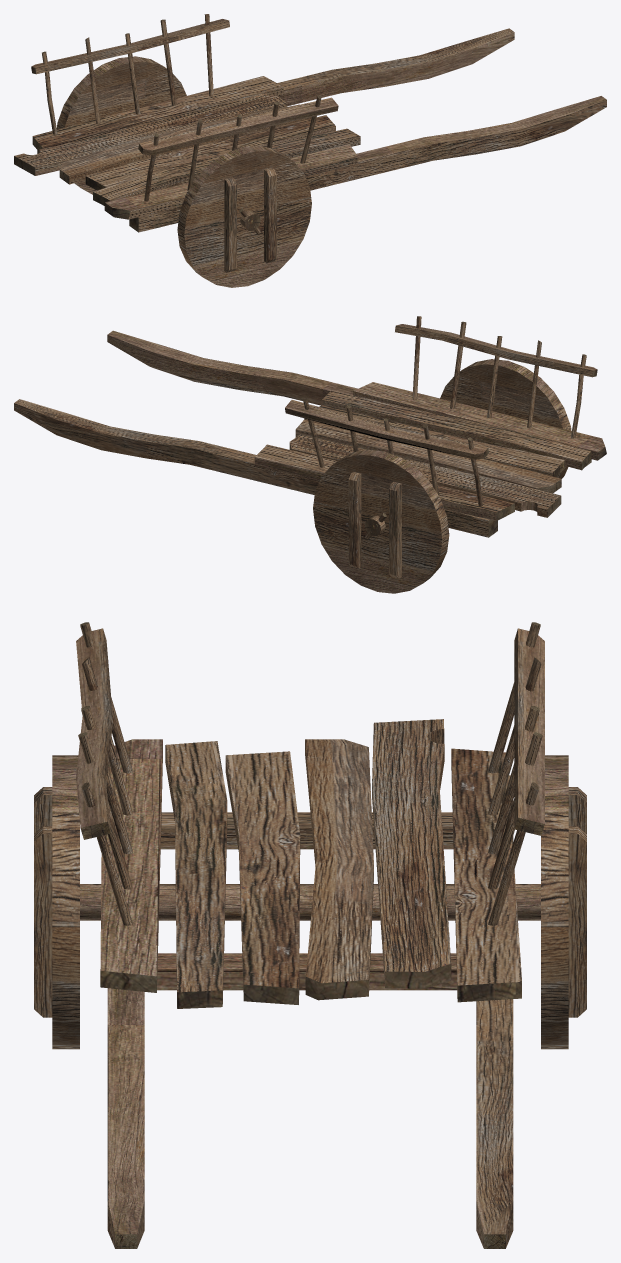
The model's file is SM_Cart_01.FBX.
3 views of the same model, one above another, from view 1: azimuth 30°, elevation 25°; view 2: azimuth 150°, elevation 25°; view 3: azimuth 270°, elevation 25° (orthographic). The views are drawn at different scales.
Visible parts, largest first — view 1: SM_Cart_01; view 2: SM_Cart_01; view 3: SM_Cart_01.
Part boxes in pixels (<box>): SM_Cart_01: <box>14,14,606,287</box>; SM_Cart_01: <box>14,316,606,593</box>; SM_Cart_01: <box>34,622,586,1248</box>.
Size of what is drawn, in the model's own units: 256 by 120 by 81.36.
